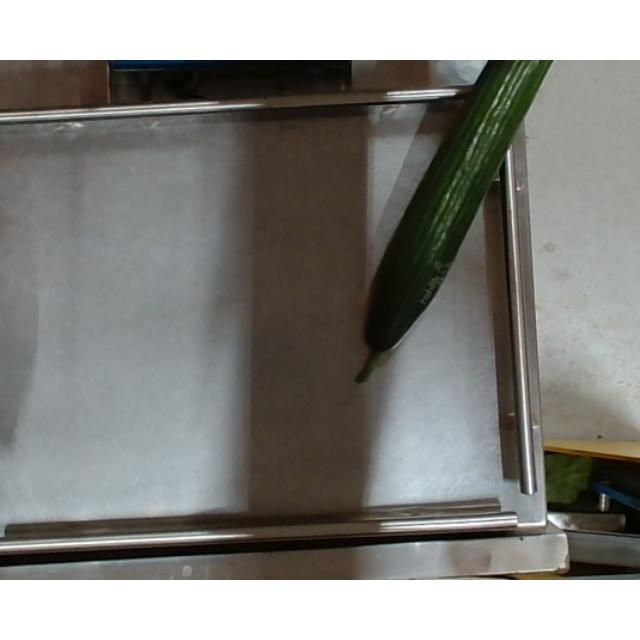cucumber: (360, 60, 570, 378)
